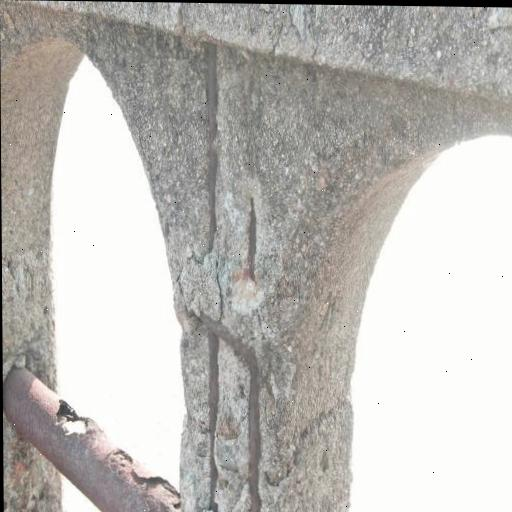exposed_rebar: (199, 312, 261, 512), (208, 44, 218, 252), (209, 330, 220, 512), (249, 198, 257, 281)
